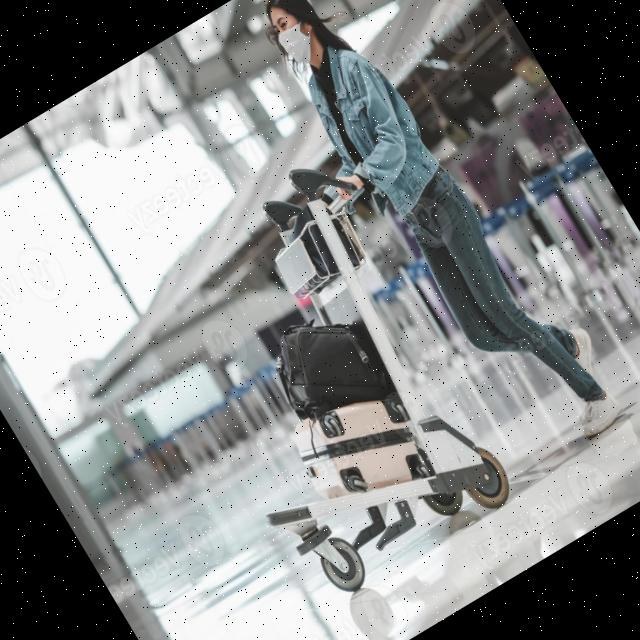Person: (218, 0, 628, 484)
